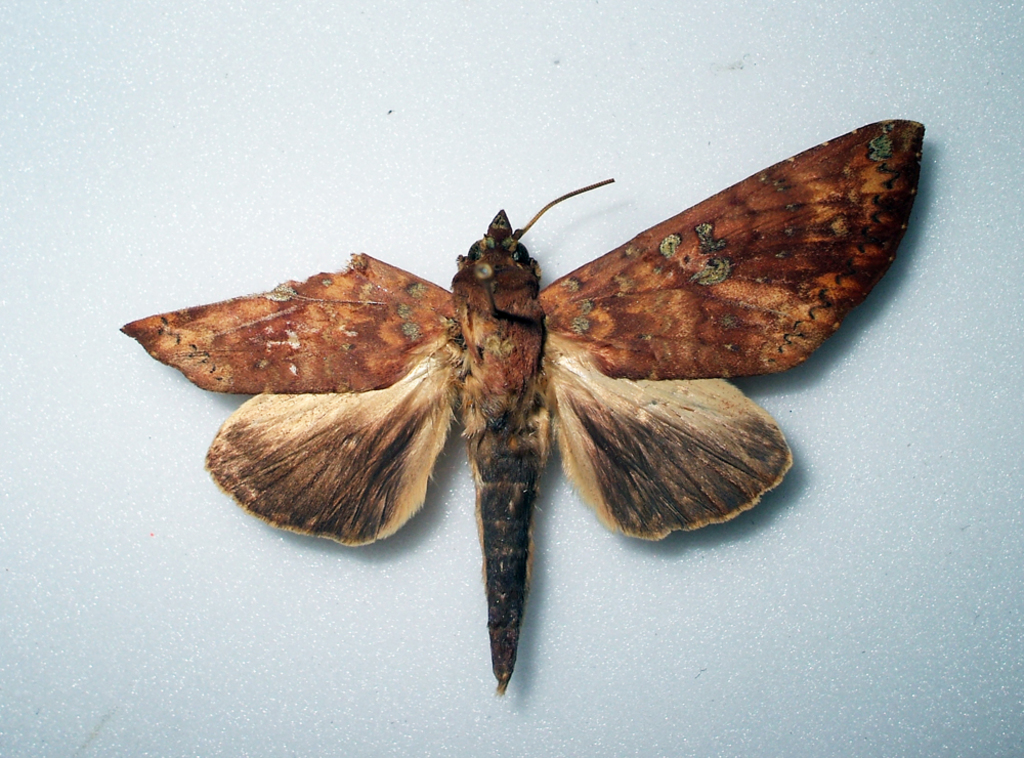Butterfly: (148, 138, 915, 702)
